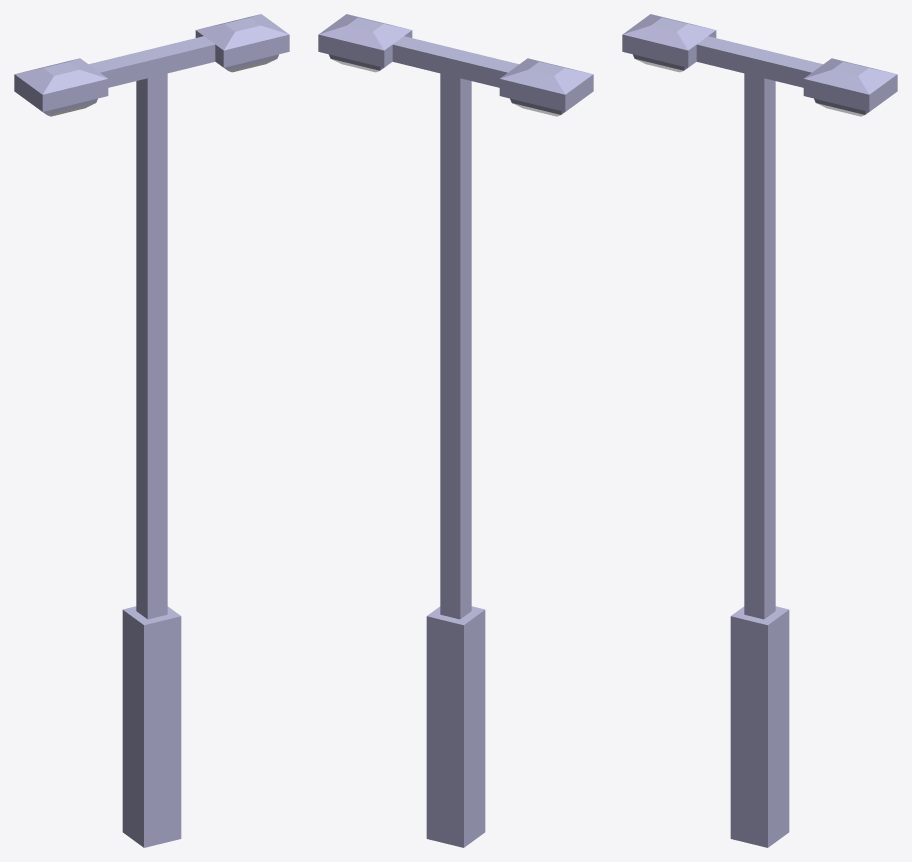
File: Street_light.fbx
The picture shows the model from 3 angles, left to right: view 1: azimuth 30°, elevation 25°; view 2: azimuth 150°, elevation 25°; view 3: azimuth 330°, elevation 25°; orthographic projection.
Visible parts, largest first — view 1: Light.; view 2: Light.; view 3: Light..
Part boxes in pixels (x1=…): Light.: x1=14, y1=14, x2=289, y2=847; Light.: x1=318, y1=14, x2=593, y2=847; Light.: x1=622, y1=14, x2=897, y2=847.
Size of the model in its own units: 117 by 356 by 22.98.
